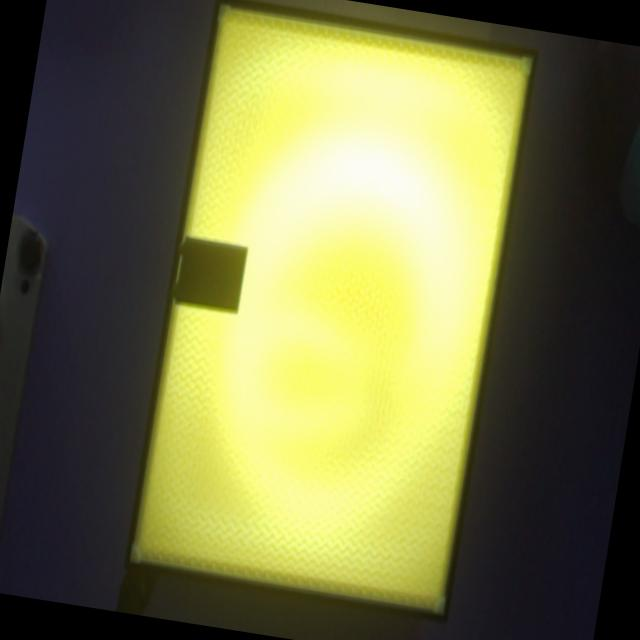bateria: (173, 234, 250, 313)
mesa: (124, 0, 537, 624)
